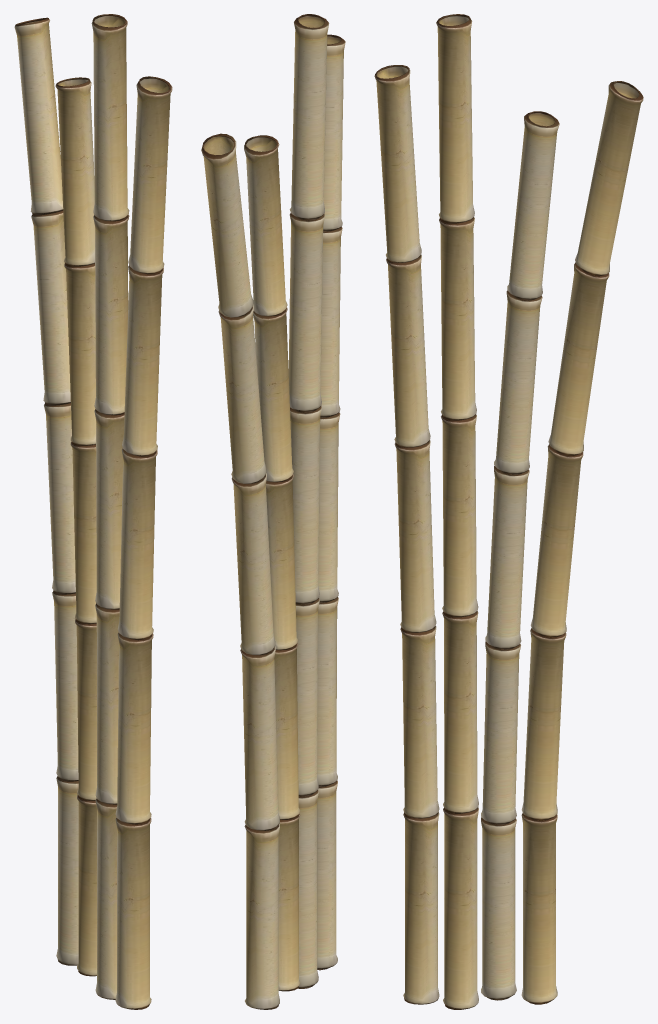
File: Bambuk v 2.fbx
3 renders of one model, left to right at view 1: azimuth 30°, elevation 25°; view 2: azimuth 150°, elevation 25°; view 3: azimuth 270°, elevation 25°, orthographic. The views are drawn at different scales.
Visible parts, largest first — view 1: Cylinder.001, Cylinder.002, Cylinder.004, Cylinder.003; view 2: Cylinder.004, Cylinder.002, Cylinder.003, Cylinder.001; view 3: Cylinder.002, Cylinder.001, Cylinder.004, Cylinder.003.
Boxes of the visible parts, x1,y1,x2,y2 form: Cylinder.001: (115, 76, 172, 1009); Cylinder.002: (91, 14, 129, 999); Cylinder.004: (14, 17, 78, 965); Cylinder.003: (55, 77, 96, 976); Cylinder.004: (201, 133, 279, 1009); Cylinder.002: (288, 14, 329, 988); Cylinder.003: (244, 135, 300, 991); Cylinder.001: (317, 34, 345, 970); Cylinder.002: (436, 14, 478, 1009); Cylinder.001: (374, 65, 439, 1004); Cylinder.004: (521, 81, 643, 1004); Cylinder.003: (481, 111, 559, 1000).
Size of the model in its own units: 50.6 by 1044 by 260.
